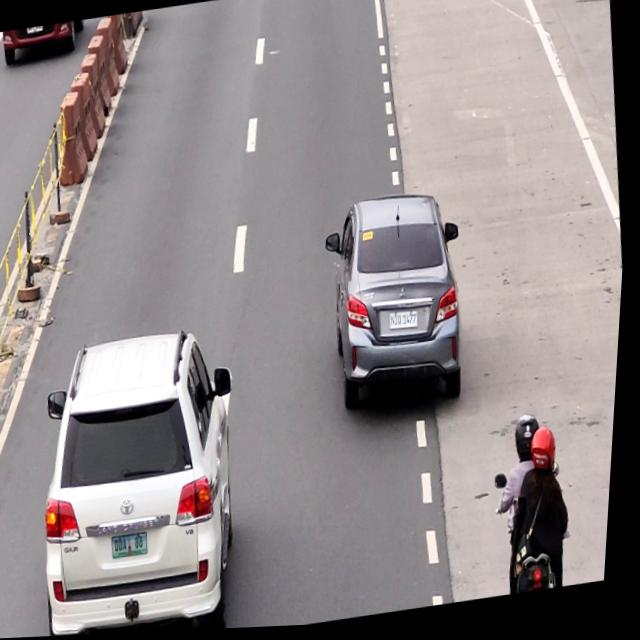Car: (27, 327, 256, 638), (322, 193, 470, 412)
License-Plate: (116, 532, 156, 561), (391, 312, 424, 335)
Motorcycle: (495, 419, 579, 600)
